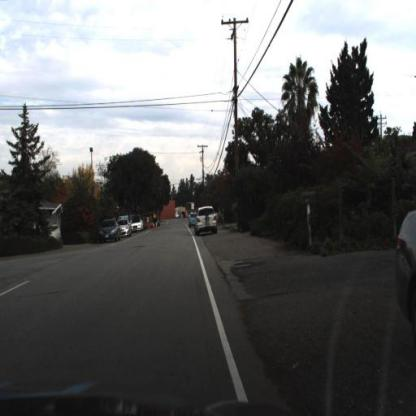car: (195, 204, 220, 238), (101, 220, 118, 245), (130, 218, 144, 234), (118, 221, 129, 238)
